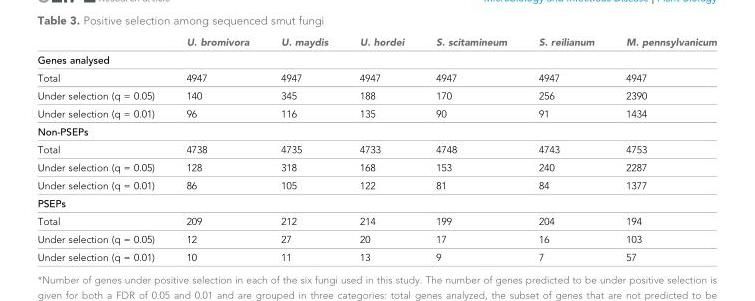table: (36, 37, 716, 262)
table column: (36, 37, 169, 262), (609, 37, 716, 262), (419, 37, 522, 262), (169, 37, 264, 262), (522, 37, 609, 262), (264, 37, 343, 262), (343, 37, 419, 262)
table column header: (36, 37, 716, 51)
table projected row header: (36, 51, 716, 69), (36, 122, 716, 140), (36, 194, 716, 212)
table row: (36, 51, 716, 69), (36, 86, 716, 104), (36, 104, 716, 122), (36, 122, 716, 140), (36, 140, 716, 158), (36, 158, 716, 176), (36, 176, 716, 194), (36, 194, 716, 212), (36, 212, 716, 230), (36, 230, 716, 248), (36, 69, 716, 86), (36, 37, 716, 51), (36, 248, 716, 262)
